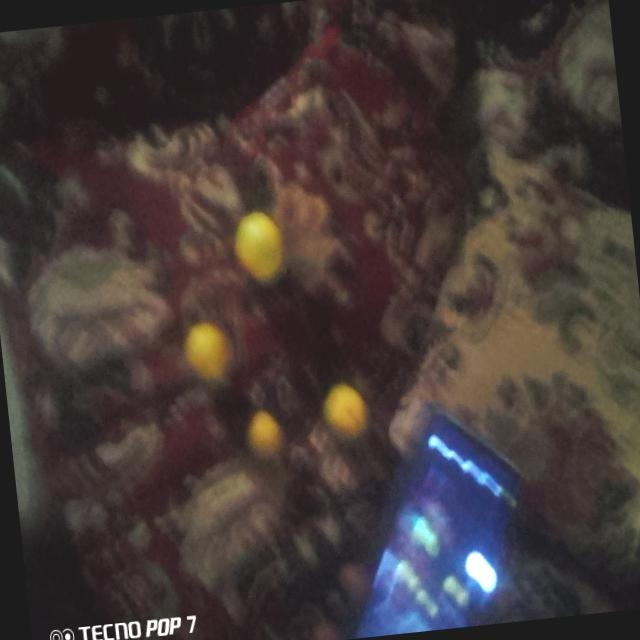agrume: (220, 206, 292, 287), (182, 321, 238, 391), (320, 382, 375, 446), (237, 410, 295, 470)
